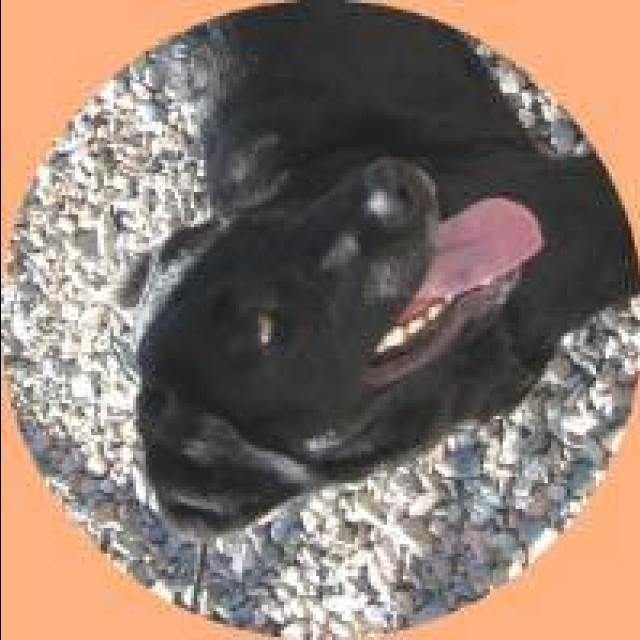dog: (103, 0, 640, 541)
